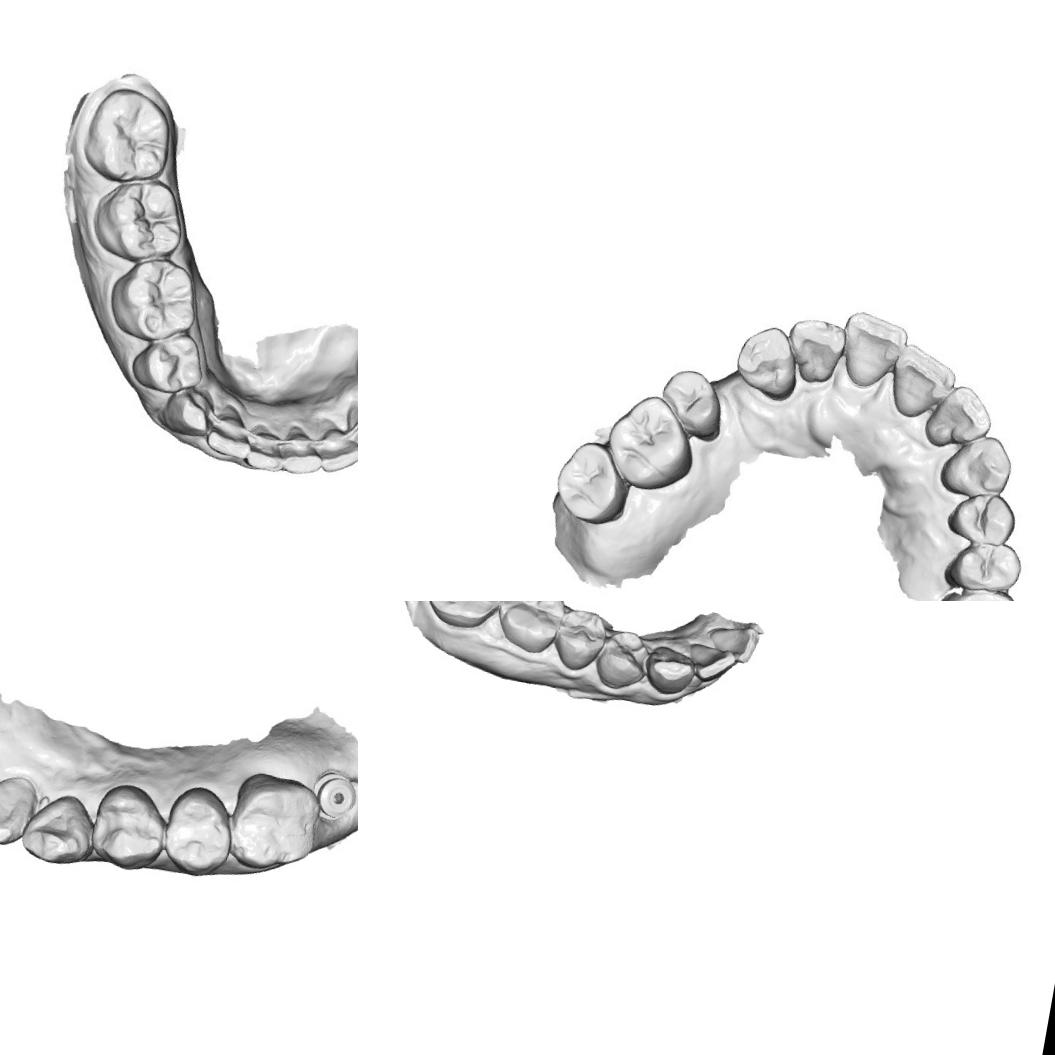canine: (15, 784, 98, 872), (934, 426, 1020, 504), (729, 320, 803, 404), (638, 642, 700, 700), (158, 382, 218, 441), (338, 400, 358, 461)
implant: (310, 767, 358, 825)
incisor: (832, 305, 912, 394), (882, 340, 959, 425), (780, 311, 848, 389), (924, 376, 992, 447), (202, 398, 258, 463), (0, 763, 38, 856), (308, 415, 358, 478), (276, 420, 328, 480), (702, 618, 763, 667), (681, 639, 738, 688), (241, 420, 288, 476)
molar: (222, 766, 326, 879), (598, 386, 702, 496), (78, 80, 179, 190), (87, 169, 192, 268), (102, 249, 205, 347), (546, 436, 635, 528), (490, 601, 570, 659), (417, 601, 509, 635), (930, 581, 1021, 601)
premolar: (83, 778, 174, 879), (152, 780, 240, 882), (126, 324, 211, 400), (941, 532, 1025, 598), (659, 365, 730, 436), (944, 486, 1024, 548), (592, 624, 654, 694), (550, 603, 610, 675)
